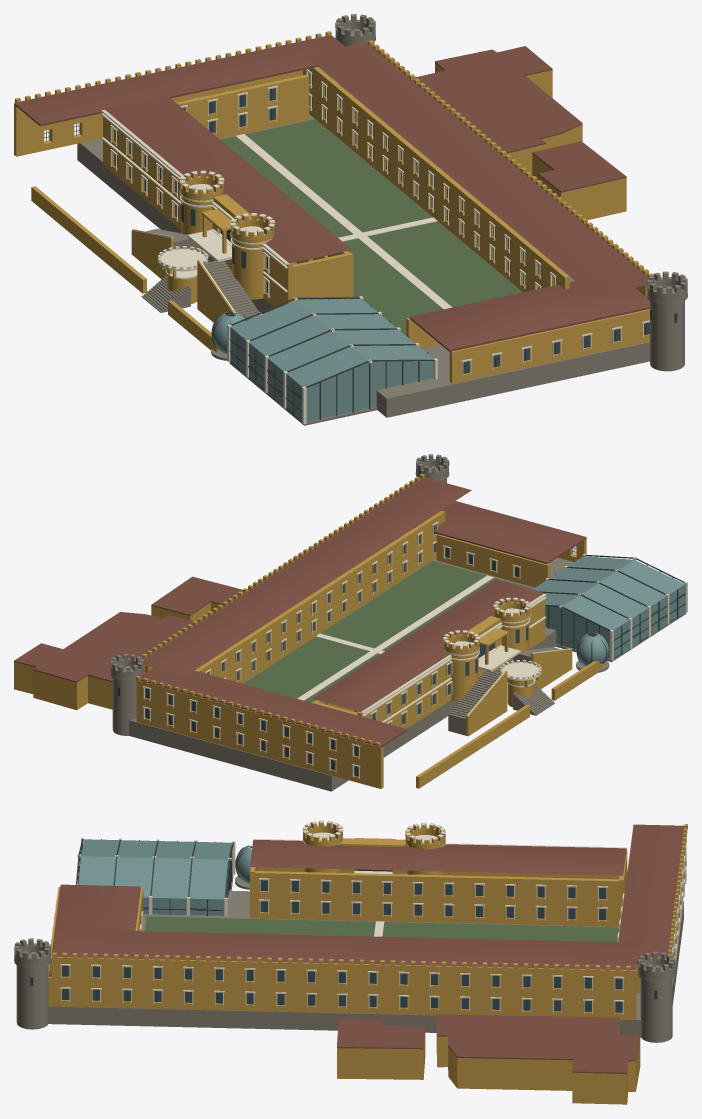
Rendered from museo-nacional-de-costa-rica-near.glb.
3 renders of one model, top to bottom at view 1: azimuth 30°, elevation 25°; view 2: azimuth 150°, elevation 25°; view 3: azimuth 270°, elevation 25°, orthographic. The views are drawn at different scales.
Visible parts, largest first — view 1: museo-nacional-de-costa-rica-0-roof, museo-nacional-de-costa-rica-0-ochre, museo-nacional-de-costa-rica-0-garden, museo-nacional-de-costa-rica-0-stone, museo-nacional-de-costa-rica-0-glass, museo-nacional-de-costa-rica-0-cream, museo-nacional-de-costa-rica-0-metal, museo-nacional-de-costa-rica-0-window; view 2: museo-nacional-de-costa-rica-0-ochre, museo-nacional-de-costa-rica-0-roof, museo-nacional-de-costa-rica-0-stone, museo-nacional-de-costa-rica-0-glass, museo-nacional-de-costa-rica-0-garden, museo-nacional-de-costa-rica-0-cream, museo-nacional-de-costa-rica-0-metal, museo-nacional-de-costa-rica-0-window; view 3: museo-nacional-de-costa-rica-0-ochre, museo-nacional-de-costa-rica-0-roof, museo-nacional-de-costa-rica-0-stone, museo-nacional-de-costa-rica-0-glass, museo-nacional-de-costa-rica-0-garden, museo-nacional-de-costa-rica-0-cream, museo-nacional-de-costa-rica-0-window, museo-nacional-de-costa-rica-0-metal.
Part boxes in pixels (x1,y1,x2,y2): museo-nacional-de-costa-rica-0-roof: (14,35,649,351); museo-nacional-de-costa-rica-0-ochre: (14,31,653,383); museo-nacional-de-costa-rica-0-garden: (220,119,522,335); museo-nacional-de-costa-rica-0-stone: (77,14,687,425); museo-nacional-de-costa-rica-0-glass: (211,299,433,421); museo-nacional-de-costa-rica-0-cream: (48,69,649,424); museo-nacional-de-costa-rica-0-metal: (44,74,677,419); museo-nacional-de-costa-rica-0-window: (114,74,649,413); museo-nacional-de-costa-rica-0-ochre: (14,473,603,788); museo-nacional-de-costa-rica-0-roof: (14,477,586,747); museo-nacional-de-costa-rica-0-stone: (110,454,685,791); museo-nacional-de-costa-rica-0-glass: (532,556,685,666); museo-nacional-de-costa-rica-0-garden: (243,561,532,711); museo-nacional-de-costa-rica-0-cream: (142,521,687,778); museo-nacional-de-costa-rica-0-metal: (117,526,685,776); museo-nacional-de-costa-rica-0-window: (145,525,685,776); museo-nacional-de-costa-rica-0-ochre: (48,822,687,1104); museo-nacional-de-costa-rica-0-roof: (49,824,684,1073); museo-nacional-de-costa-rica-0-stone: (14,875,683,1042); museo-nacional-de-costa-rica-0-glass: (78,839,251,915); museo-nacional-de-costa-rica-0-garden: (145,916,619,941); museo-nacional-de-costa-rica-0-cream: (50,820,686,1014); museo-nacional-de-costa-rica-0-window: (62,880,622,1012); museo-nacional-de-costa-rica-0-metal: (30,839,673,1012).
Bounding box in the file's own units: 90.96 × 14.6 × 112.
